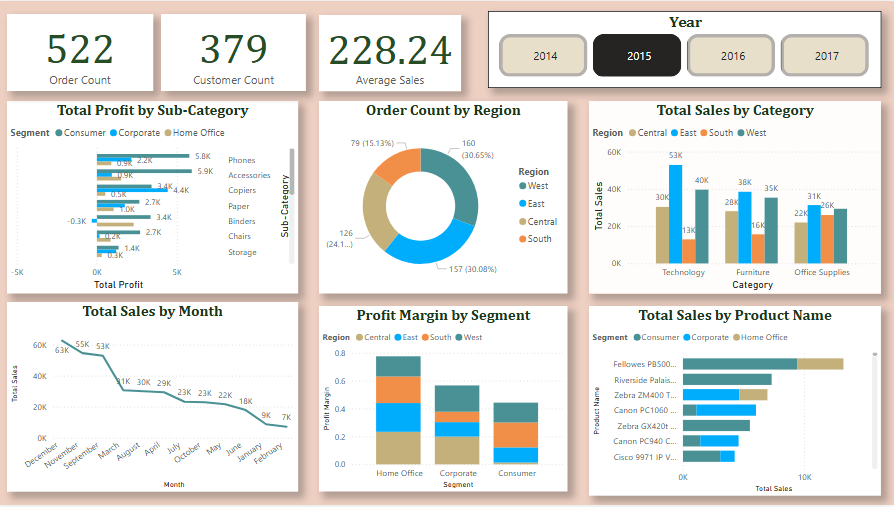

Layout of this report page (visuals, bound fields, positions):
{"tool":"powerbi","page":{"name":"Page 1","canvas":[1280,720],"ordinal":0},"visuals":[{"type":"clusteredColumnChart","title":"Total Sales by Category ","fields":{"Category":["Sample - Superstore.Category"],"Y":["Sample - Superstore.Total Sales"],"Series":["Sample - Superstore.Region"]},"box":[844.9,143.5,417.4,275.4],"z":0},{"type":"clusteredBarChart","title":"Total Profit by Sub-Category ","fields":{"Category":["Sample - Superstore.Sub-Category"],"Y":["Sample - Superstore.Total Profit"],"Series":["Sample - Superstore.Segment"]},"box":[13,143.5,415.9,275.4],"z":1000},{"type":"lineChart","fields":{"Category":["Sample - Superstore.Month"],"Y":["Sample - Superstore.Total Sales"]},"box":[13,430.4,415.9,271],"z":2000},{"type":"barChart","title":"Total Sales by Product Name","fields":{"Y":["Sample - Superstore.Total Sales"],"Category":["Sample - Superstore.Product Name"],"Series":["Sample - Superstore.Segment"]},"box":[844.9,436.2,417.4,271],"z":3000},{"type":"card","fields":{"Values":["Sample - Superstore.Order Count"]},"box":[13,18.8,208.7,110.1],"z":4000},{"type":"advancedSlicerVisual","fields":{"Values":["Sample - Superstore.Year"]},"box":[700,14.5,562.3,110.1],"z":5000},{"type":"card","fields":{"Values":["Sample - Superstore.Average Sales"]},"box":[458,20.3,202.9,108.7],"z":6000},{"type":"card","fields":{"Values":["Sample - Superstore.Customer Count"]},"box":[233.3,18.8,207.2,110.1],"z":7000},{"type":"donutChart","fields":{"Y":["Sample - Superstore.Order Count"],"Category":["Sample - Superstore.Region"]},"box":[458,143.5,355.1,275.4],"z":8000},{"type":"columnChart","title":"Profit Margin by Segment","fields":{"Category":["Sample - Superstore.Segment"],"Y":["Sample - Superstore.Profit Margin"],"Series":["Sample - Superstore.Region"]},"box":[458,436.2,355.1,265.2],"z":9000}]}

Visuals, with their boxes in screenshot pixels (x1, y1, x2, y2), scaled from the page's 1280x720 canvas onto the 894x507 screenshot:
"Total Sales by Category " clusteredColumnChart: [590, 101, 882, 295]
"Total Profit by Sub-Category " clusteredBarChart: [9, 101, 300, 295]
lineChart - Sample - Superstore.Month x Sample - Superstore.Total Sales: [9, 303, 300, 494]
"Total Sales by Product Name" barChart: [590, 307, 882, 498]
card - Sample - Superstore.Order Count: [9, 13, 155, 91]
advancedSlicerVisual - Sample - Superstore.Year: [489, 10, 882, 88]
card - Sample - Superstore.Average Sales: [320, 14, 462, 91]
card - Sample - Superstore.Customer Count: [163, 13, 308, 91]
donutChart - Sample - Superstore.Order Count x Sample - Superstore.Region: [320, 101, 568, 295]
"Profit Margin by Segment" columnChart: [320, 307, 568, 494]
